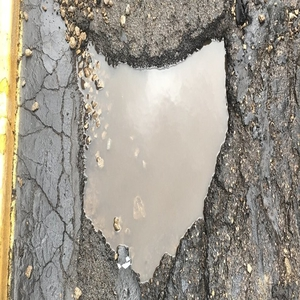pothole: (73, 24, 236, 285)
